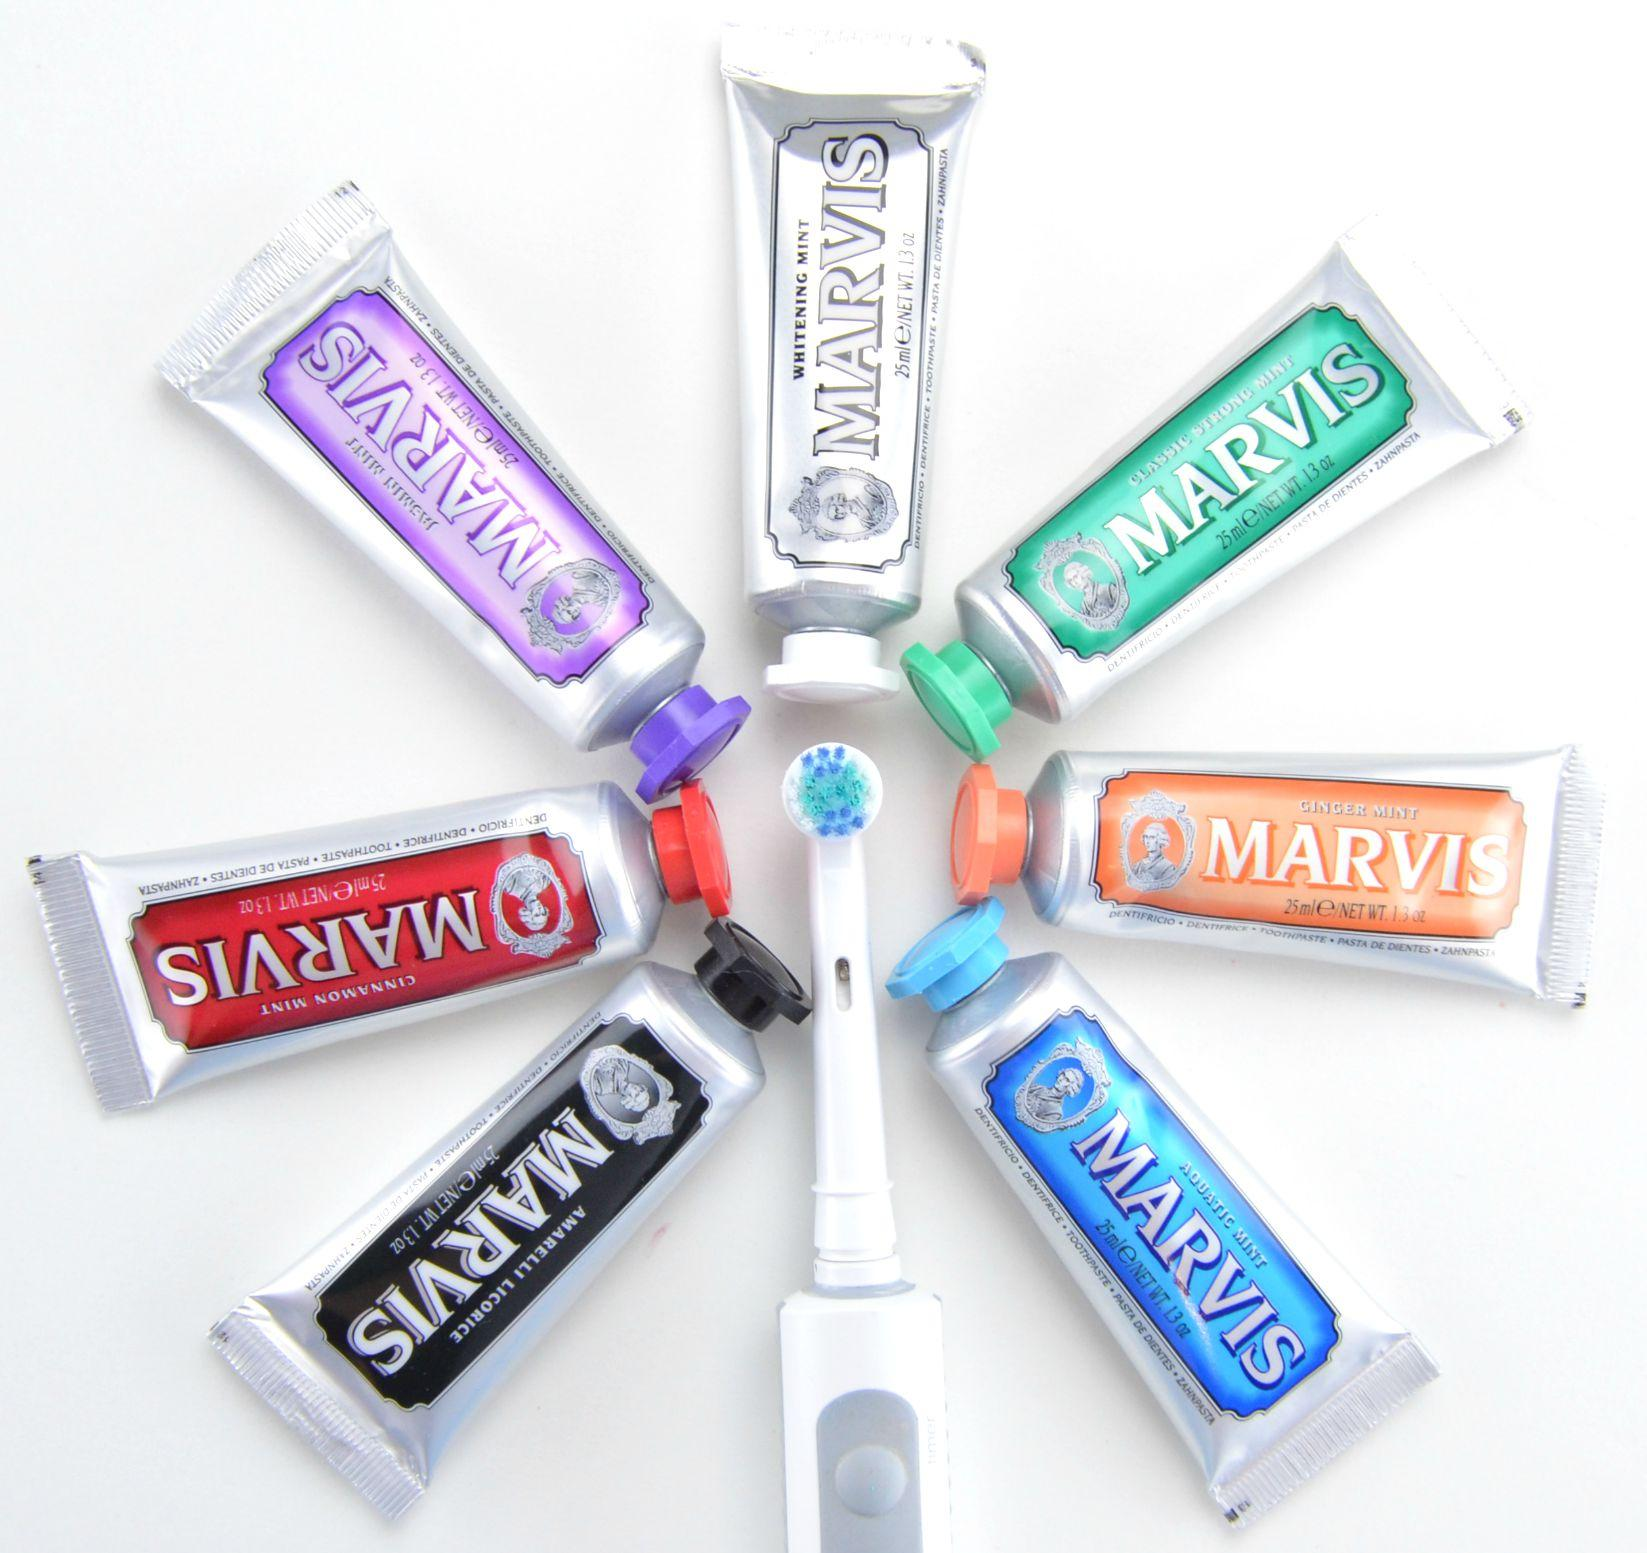toothpaste: (128, 147, 732, 779), (197, 882, 791, 1502), (913, 232, 1571, 739), (892, 896, 1422, 1508), (677, 18, 927, 725), (929, 715, 1621, 940), (6, 791, 715, 972)
